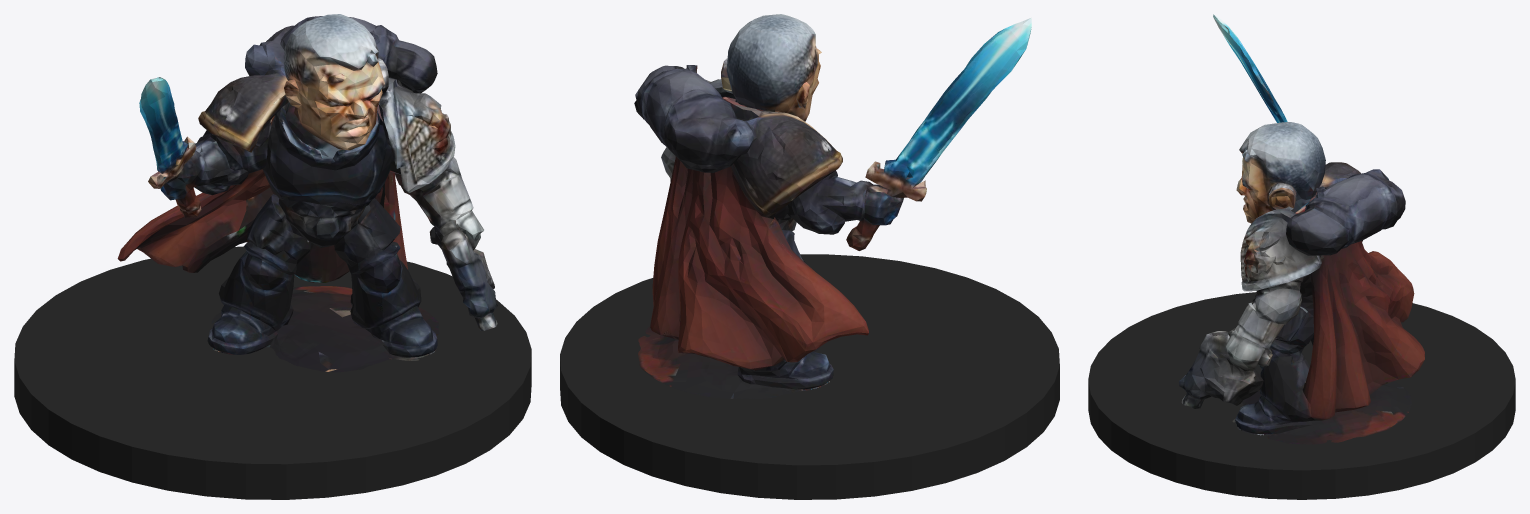
Rendered from lieutenant-alphion.glb.
3 views of the same model, side by side, from view 1: azimuth 30°, elevation 25°; view 2: azimuth 150°, elevation 25°; view 3: azimuth 270°, elevation 25° (orthographic). The views are drawn at different scales.
Visible parts, largest first — view 1: figure, base; view 2: base, figure; view 3: figure, base.
Part boxes in pixels (<box>): figure: <box>117,14,497,372</box>; base: <box>14,246,531,499</box>; base: <box>560,254,1059,499</box>; figure: <box>634,14,1031,398</box>; figure: <box>1179,14,1424,444</box>; base: <box>1088,292,1515,499</box>.
Size of the model in its own units: 1.57 by 1.32 by 1.57.
Materials: 2 (1 with a texture image).
